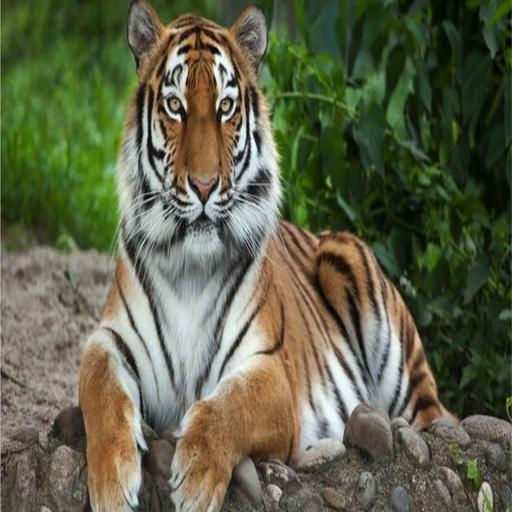Tiger: (70, 0, 469, 512)
